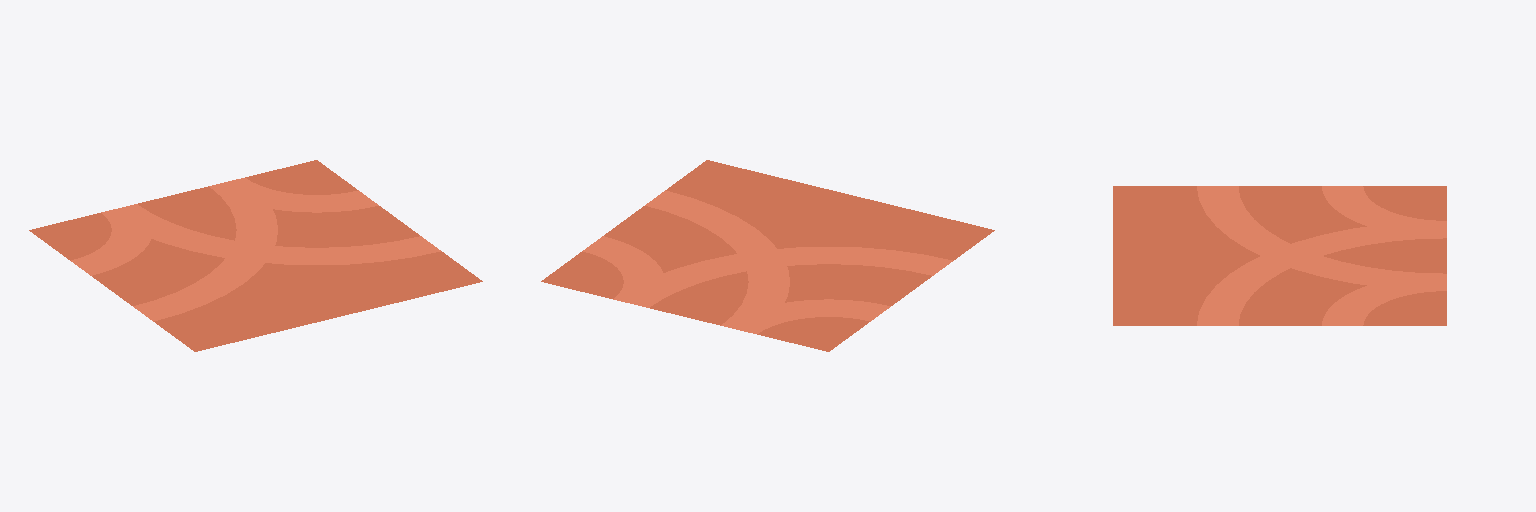
File: terrain_roadSplit.obj
3 views of the same model, side by side, from view 1: azimuth 30°, elevation 25°; view 2: azimuth 150°, elevation 25°; view 3: azimuth 270°, elevation 25° (orthographic).
Visible parts, largest first — view 1: terrain_roadSplit; view 2: terrain_roadSplit; view 3: terrain_roadSplit.
Part boxes in pixels (bbox=[...]): terrain_roadSplit: bbox=[29, 160, 482, 351]; terrain_roadSplit: bbox=[541, 160, 994, 351]; terrain_roadSplit: bbox=[1113, 186, 1446, 325].
Bounding box in the file's own units: 1 × 0 × 1.